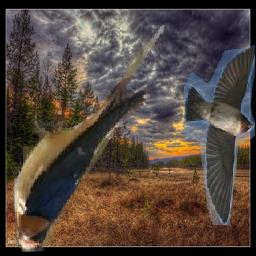Swallow: (11, 24, 165, 253), (185, 45, 256, 225)
